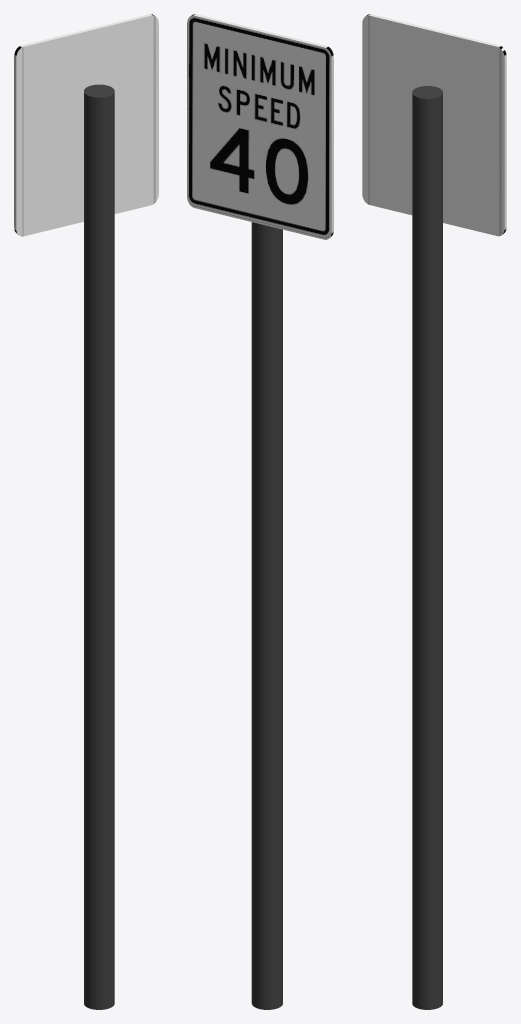
File: SpeedLimitSign_40 (1).fbx
3 renders of one model, left to right at view 1: azimuth 30°, elevation 25°; view 2: azimuth 150°, elevation 25°; view 3: azimuth 330°, elevation 25°, orthographic.
Parts seen in each view (by area): view 1: SpeedSign_40; view 2: SpeedSign_40; view 3: SpeedSign_40.
Part boxes in pixels (bbox=[...]): SpeedSign_40: bbox=[14, 14, 158, 1009]; SpeedSign_40: bbox=[187, 14, 333, 1009]; SpeedSign_40: bbox=[362, 14, 506, 1009].
Bounding box in the file's own units: 78.7 × 510 × 17.78.
Materials: 2 (1 with a texture image).
